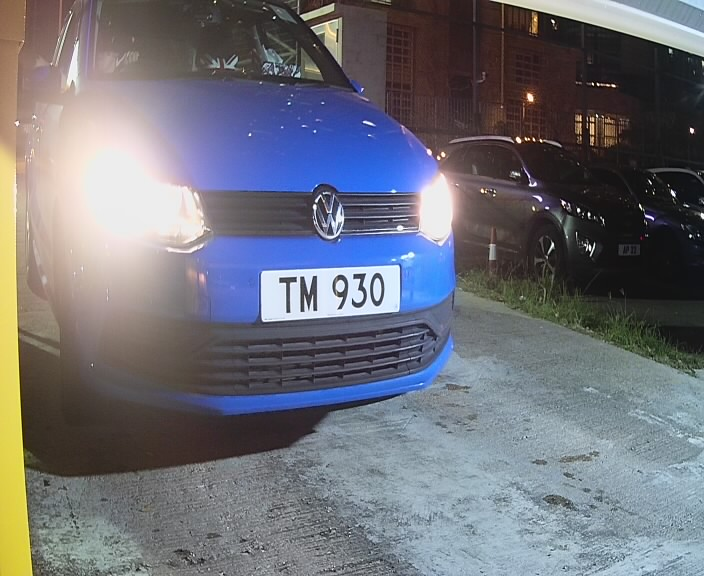Car: (21, 2, 473, 433)
License Plate: (253, 256, 408, 330)
